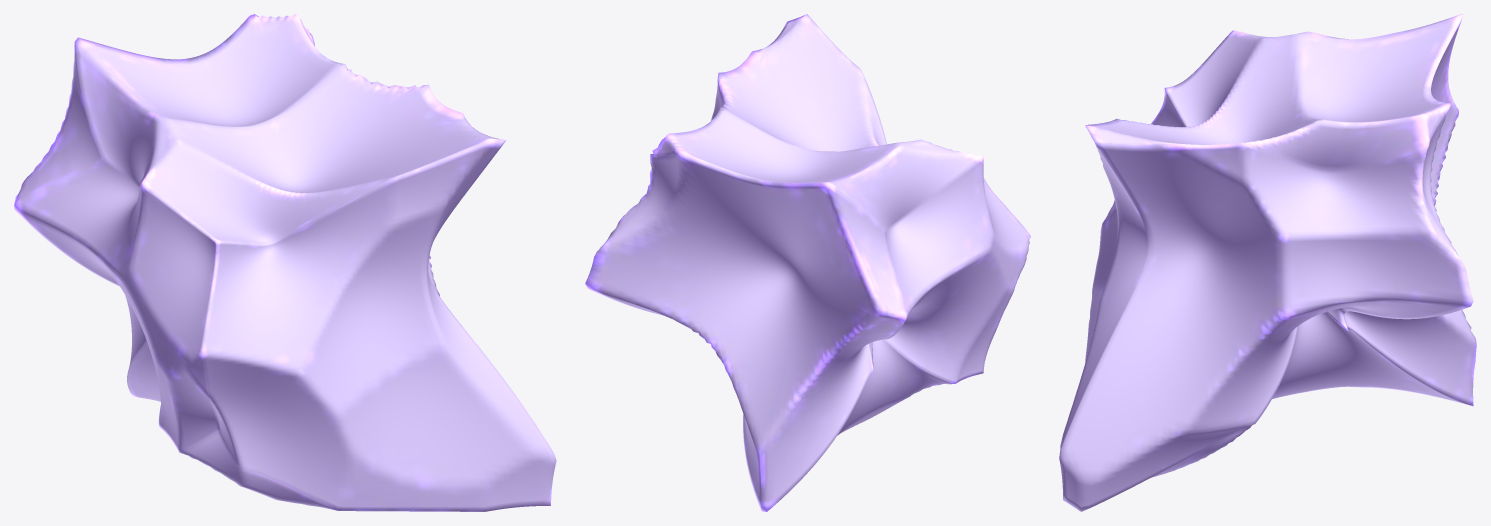
The model's file is gem-4.glb.
3 views of the same model, side by side, from view 1: azimuth 30°, elevation 25°; view 2: azimuth 150°, elevation 25°; view 3: azimuth 270°, elevation 25° (orthographic). The views are drawn at different scales.
Parts seen in each view (by area): view 1: Gem.004; view 2: Gem.004; view 3: Gem.004.
Boxes of the visible parts, box(x1,y1,x2,y2) form: Gem.004: box(14, 14, 556, 511); Gem.004: box(585, 14, 1030, 511); Gem.004: box(1059, 14, 1476, 511).
Size of the model in its own units: 0.4668 by 0.4911 by 0.5008.
